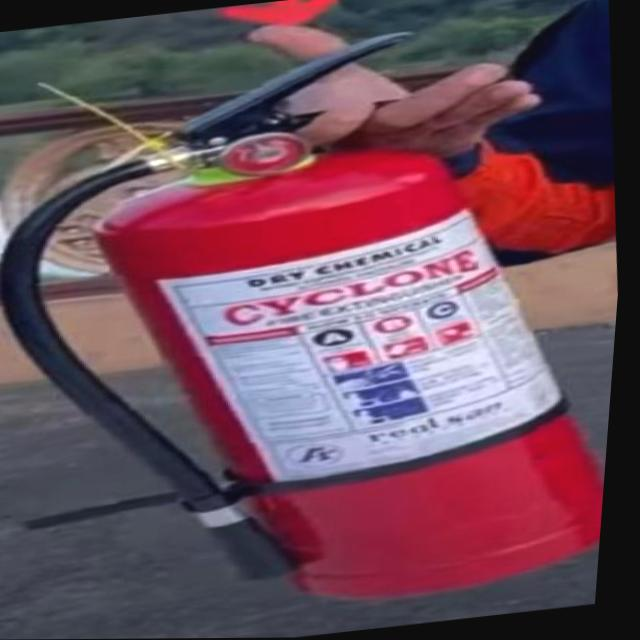FireExtinguisher: (0, 5, 639, 640)
